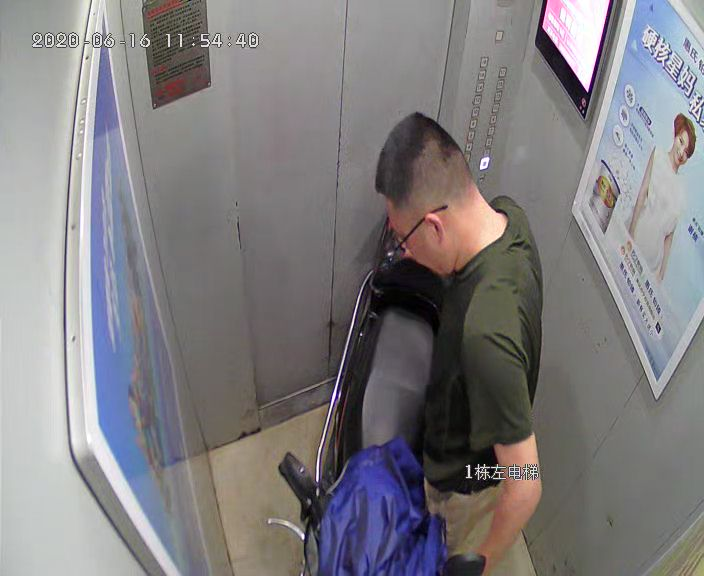Electric-bicycle: (266, 257, 486, 576)
